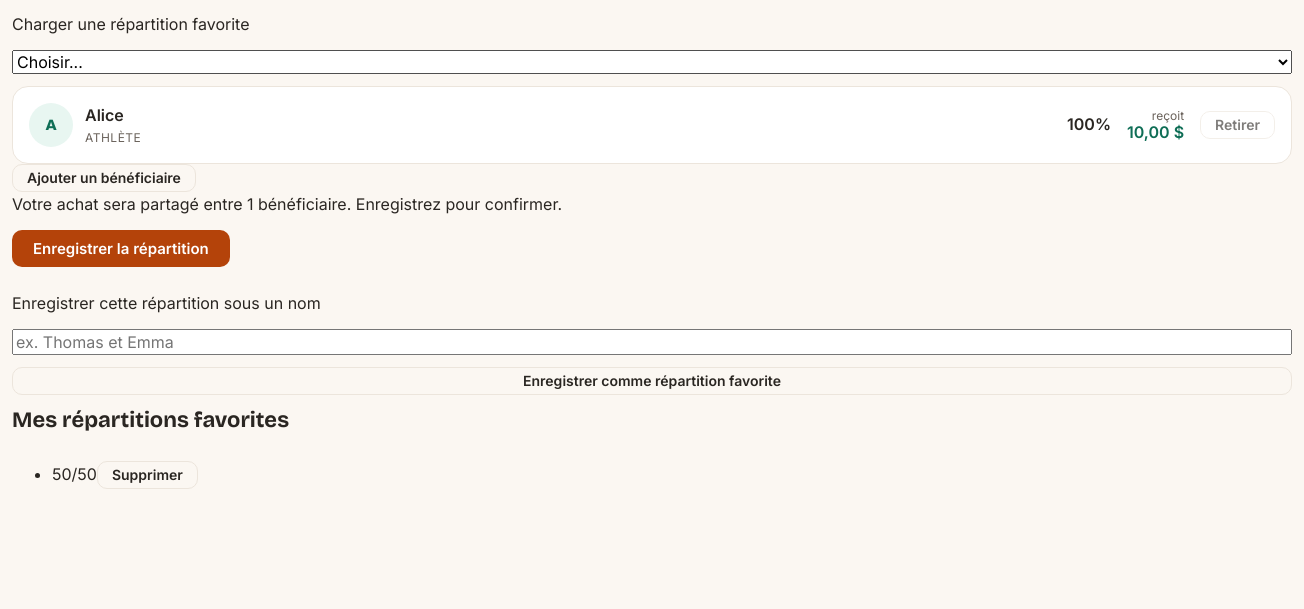
Test: BeneficiarySplit › appliquer une répartition favorite remplace les lignes et reflète le nouveau total
Select "50/50" in the dropdown labelled "Charger une répartition favorite". click: (652, 62)
box: [12, 50, 1292, 74]
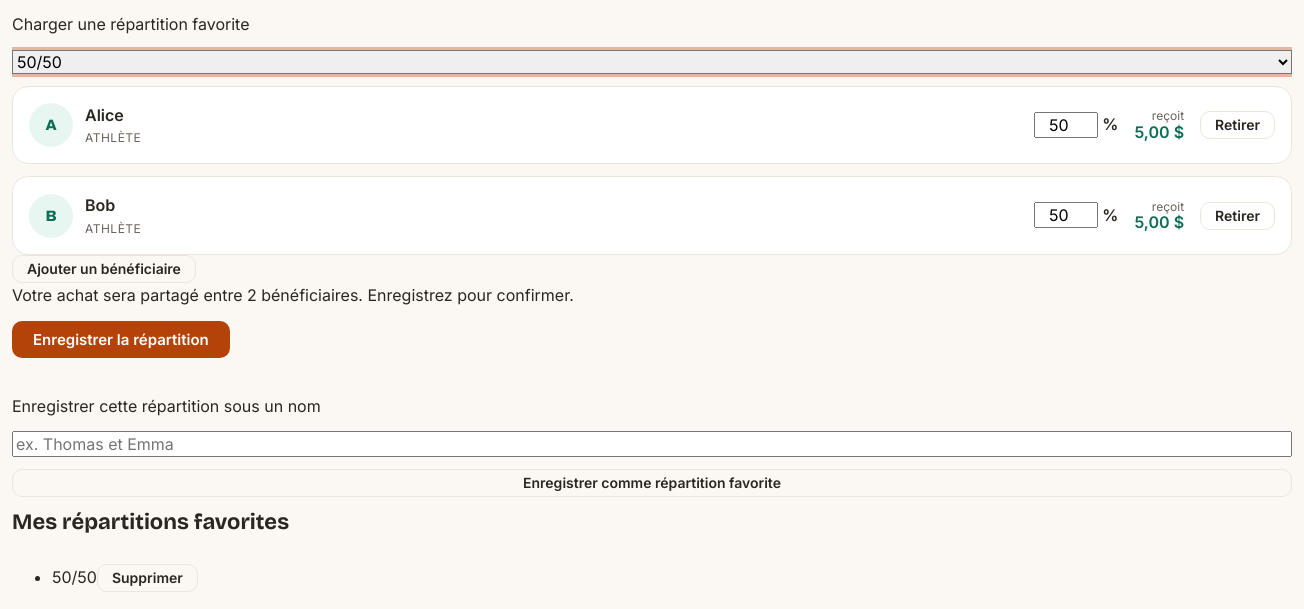
Expected: the number field named "Part (%) pour Alice" holds "50", [1034, 112, 1098, 138]
Expected: the number field named "Part (%) pour Bob" holds "50", [1034, 202, 1098, 228]
Expected: the text "5,00 $" is shown 2 times, [1134, 123, 1184, 141]; [1134, 214, 1184, 232]
